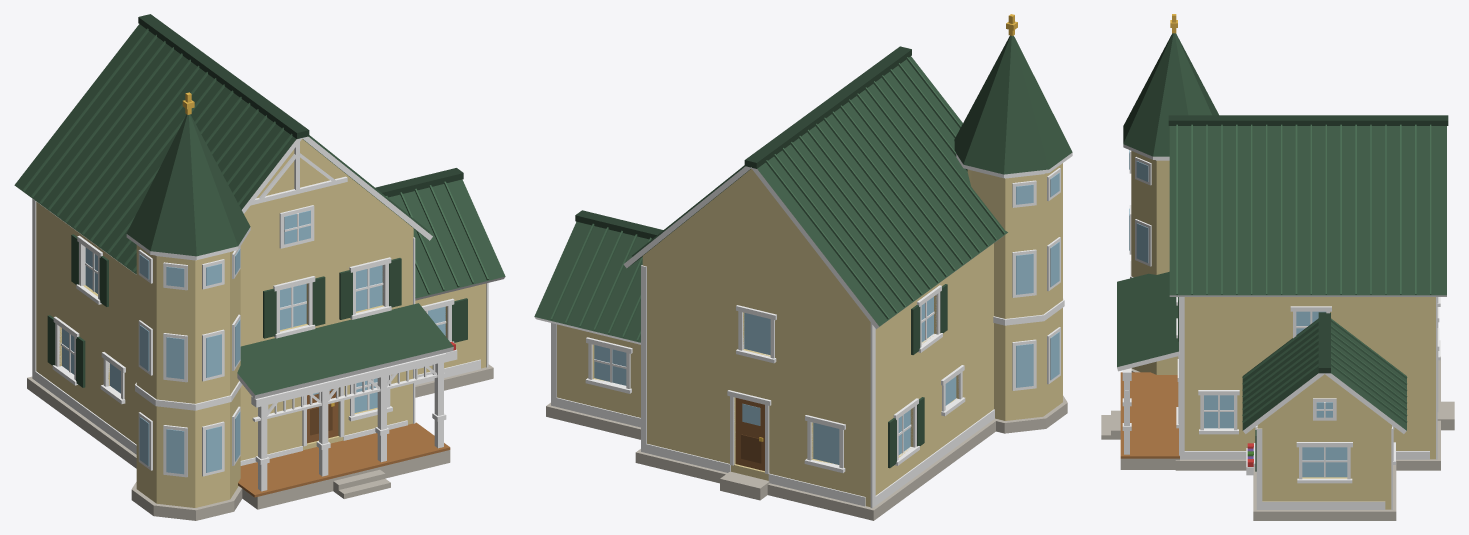
Rendered from base-10-level2.glb.
The picture shows the model from 3 angles, left to right: view 1: azimuth 30°, elevation 25°; view 2: azimuth 150°, elevation 25°; view 3: azimuth 270°, elevation 25°; orthographic projection. The views are drawn at different scales.
Parts seen in each view (by area): view 1: base_house_10_finished, piece_addition; view 2: base_house_10_finished, piece_addition; view 3: base_house_10_finished, piece_addition.
Boxes of the visible parts, x1=… form: base_house_10_finished: x1=14, y1=14, x2=453, y2=520; piece_addition: x1=375, y1=168, x2=505, y2=397; base_house_10_finished: x1=623, y1=14, x2=1072, y2=520; piece_addition: x1=534, y1=210, x2=663, y2=439; base_house_10_finished: x1=1101, y1=14, x2=1454, y2=470; piece_addition: x1=1242, y1=312, x2=1407, y2=520.
Size of the model in its own units: 13.9 by 13.15 by 11.84.
